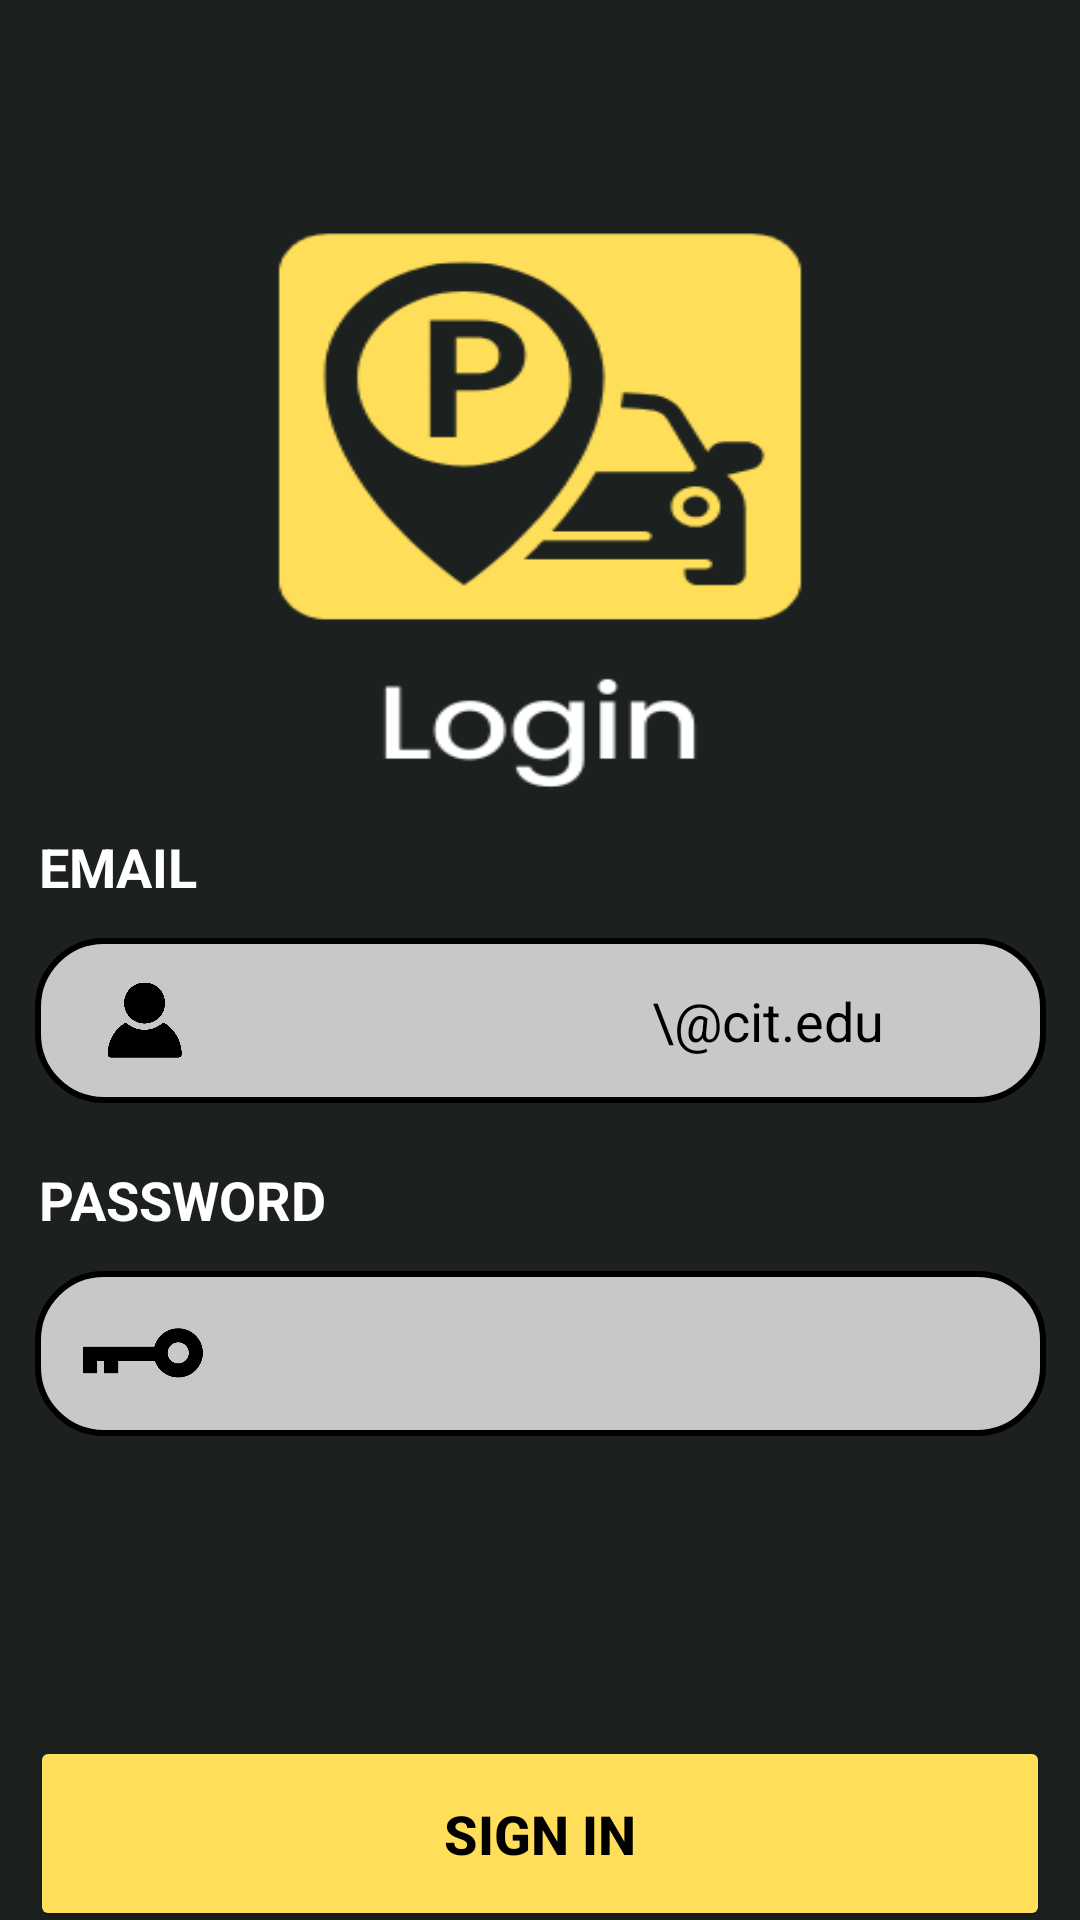

Where to tap for icons on this 1080px x 1920px app screen, as point (x, y):
loginpass: point (143, 1353)
loginuser: point (145, 1020)
